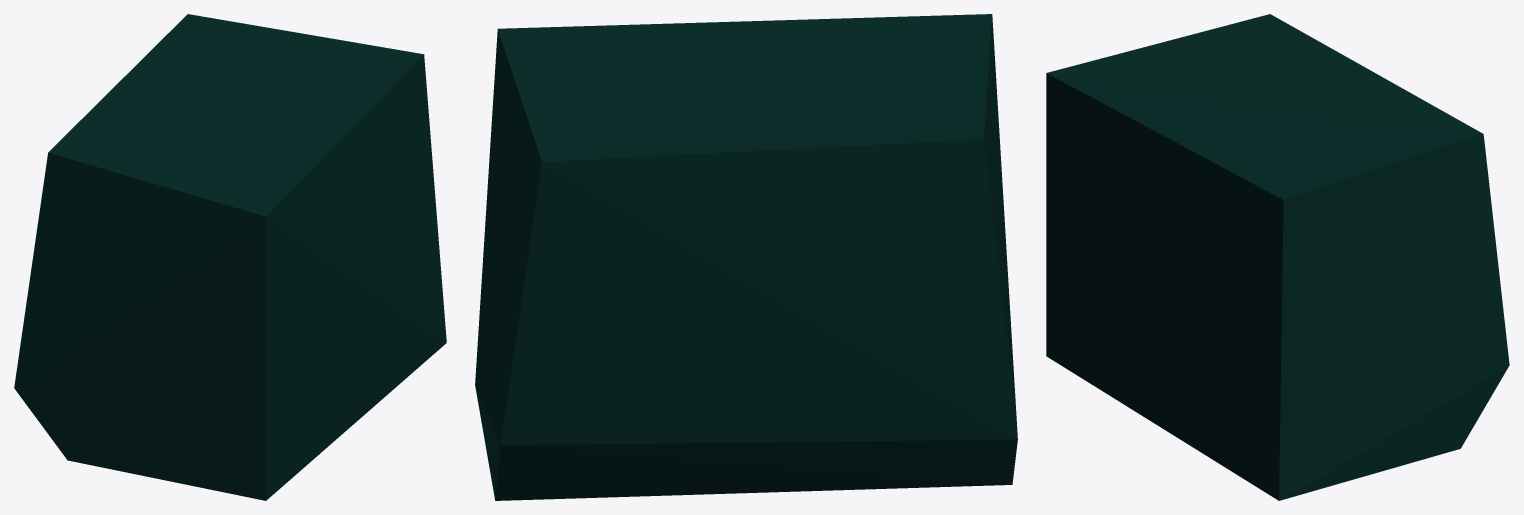
3 views of the same model, side by side, from view 1: azimuth 30°, elevation 25°; view 2: azimuth 150°, elevation 25°; view 3: azimuth 270°, elevation 25° (orthographic). The views are drawn at different scales.
Parts seen in each view (by area): view 1: mesh_1898340549; view 2: mesh_1898340549; view 3: mesh_1898340549.
Boxes of the visible parts, x1,y1,x2,y2 form: mesh_1898340549: (14, 14, 446, 500); mesh_1898340549: (475, 14, 1017, 500); mesh_1898340549: (1046, 14, 1509, 500).
Size of the model in its own units: 148 by 94.99 by 137.
